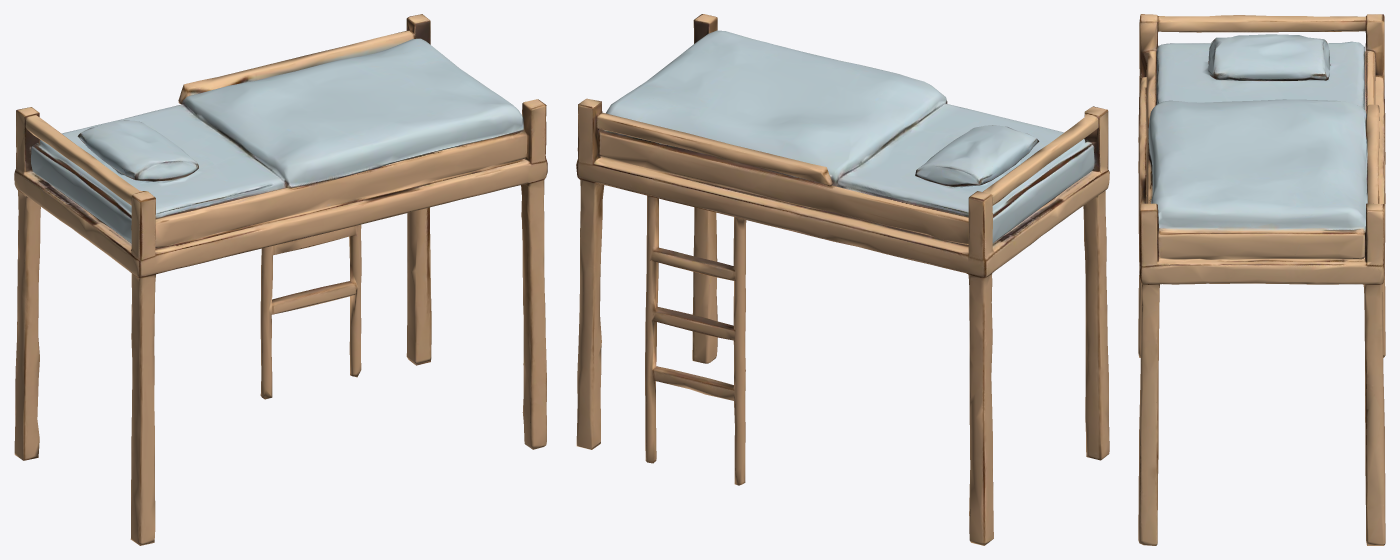
File: bed_loft.glb
The picture shows the model from 3 angles, left to right: view 1: azimuth 30°, elevation 25°; view 2: azimuth 150°, elevation 25°; view 3: azimuth 270°, elevation 25°; orthographic projection. The views are drawn at different scales.
Visible parts, largest first — view 1: tripo_node_f6594e24-4a06-4441-8b56-27248af0aa59; view 2: tripo_node_f6594e24-4a06-4441-8b56-27248af0aa59; view 3: tripo_node_f6594e24-4a06-4441-8b56-27248af0aa59.
Part boxes in pixels (bbox=[...]): tripo_node_f6594e24-4a06-4441-8b56-27248af0aa59: bbox=[14, 14, 547, 545]; tripo_node_f6594e24-4a06-4441-8b56-27248af0aa59: bbox=[576, 14, 1109, 545]; tripo_node_f6594e24-4a06-4441-8b56-27248af0aa59: bbox=[1138, 14, 1385, 545].
Size of the model in its own units: 1 by 0.8043 by 0.533.
1 material, 1 textured.
